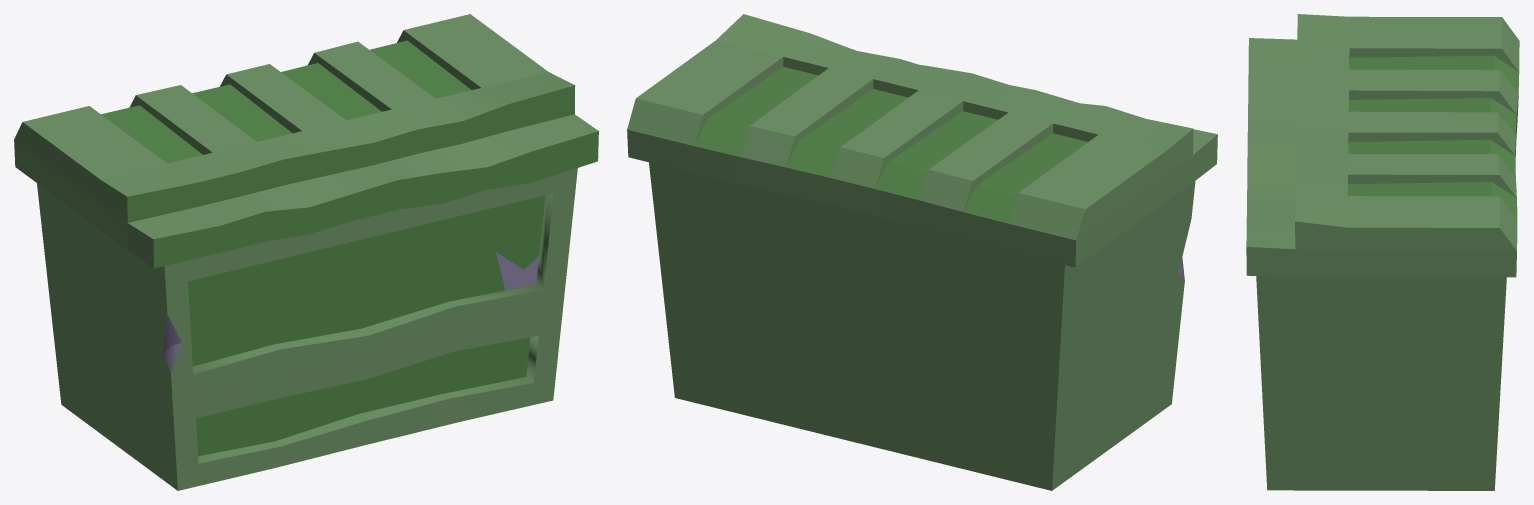
File: TrashContainer.fbx
The picture shows the model from 3 angles, left to right: view 1: azimuth 30°, elevation 25°; view 2: azimuth 150°, elevation 25°; view 3: azimuth 270°, elevation 25°; orthographic projection. The views are drawn at different scales.
Visible parts, largest first — view 1: trash.container; view 2: trash.container; view 3: trash.container.
Part boxes in pixels (x1,y1,x2,y2): trash.container: (14,14,598,490); trash.container: (627,14,1217,490); trash.container: (1246,14,1519,490).
Bounding box in the file's own units: 176 × 111 × 95.98.
1 material, 1 textured.
